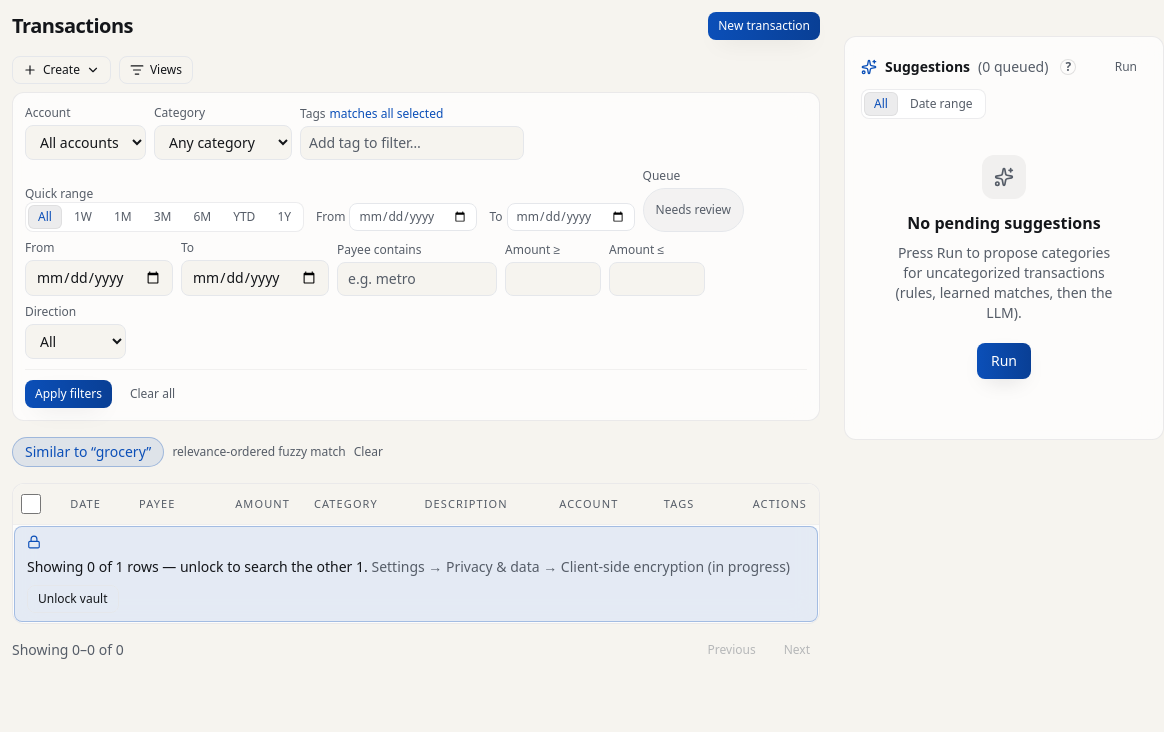
Test: §3.4-5 remedy exercise — the inline unlock actually restores the feature › a WRONG passphrase keeps it locked and says so — the remedy is honest
Expected: the message with test id "vault-locked" is shown, [14,526,818,622]
Click the button with test id "vault-unlock-toggle" at [73, 599], box [27,585,118,613]
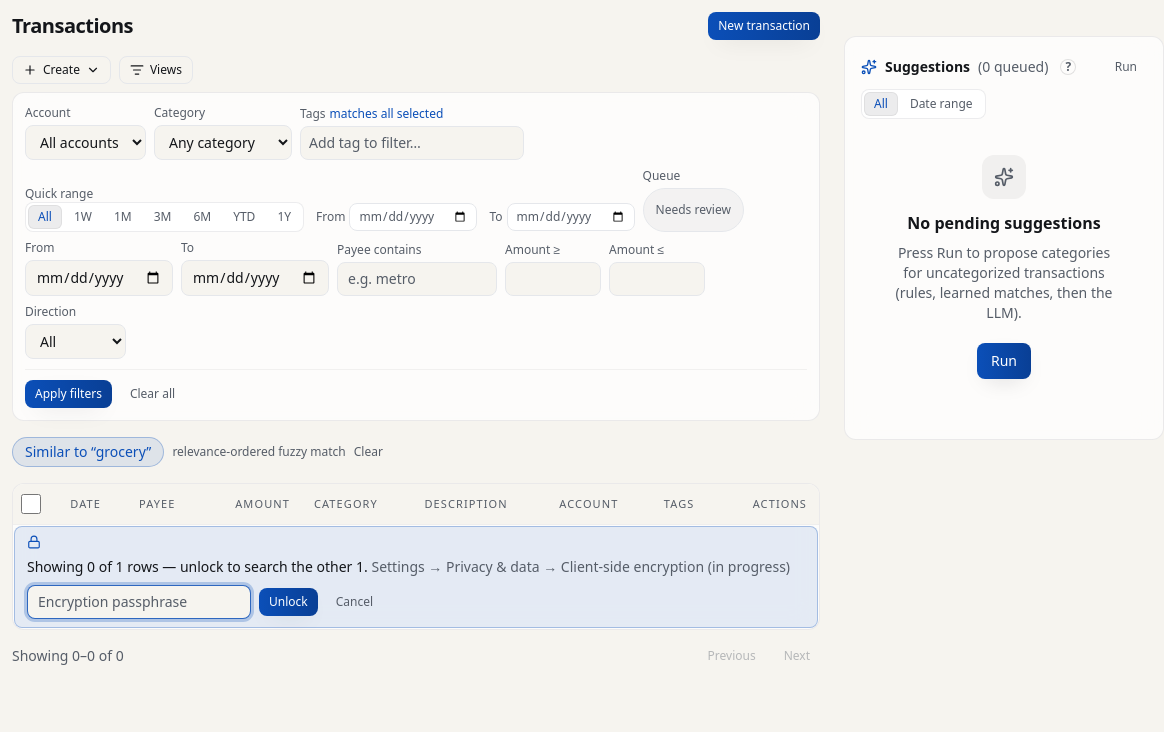
Type "not-the-passphrase" into the password field labelled "Encryption passphrase" at [139, 602], box [27,585,251,619]
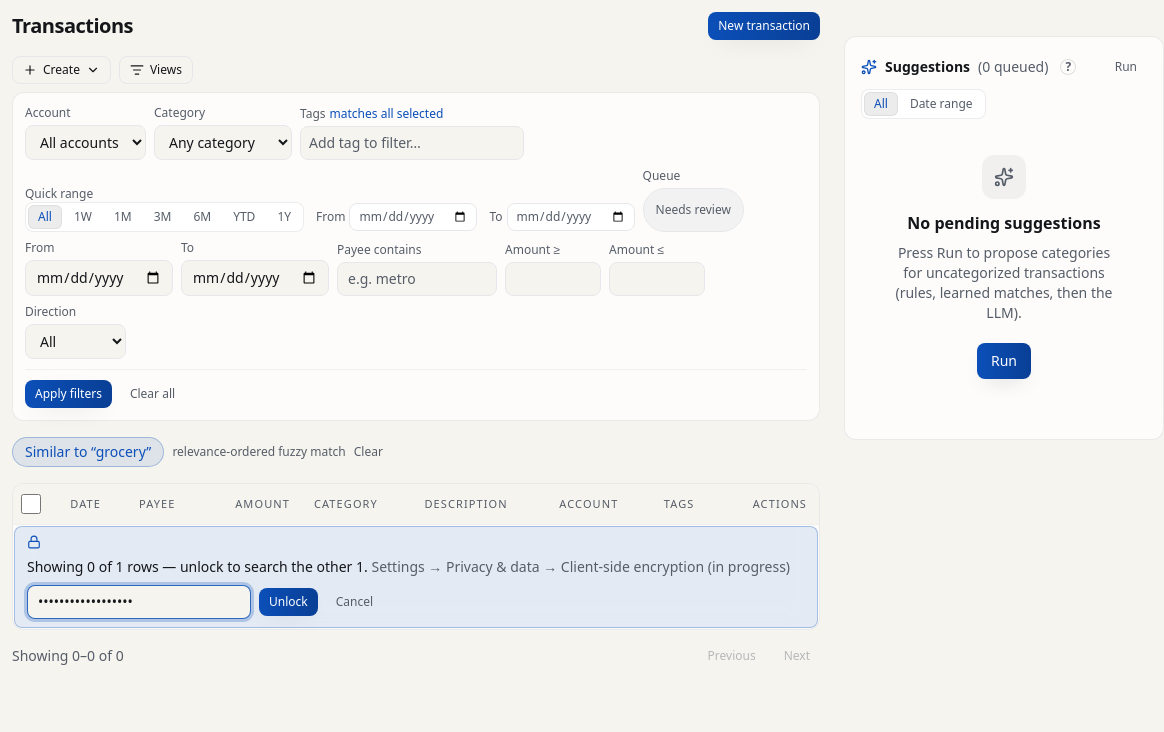
Submit the form named "Encryption passphrase", box [27,585,383,619]
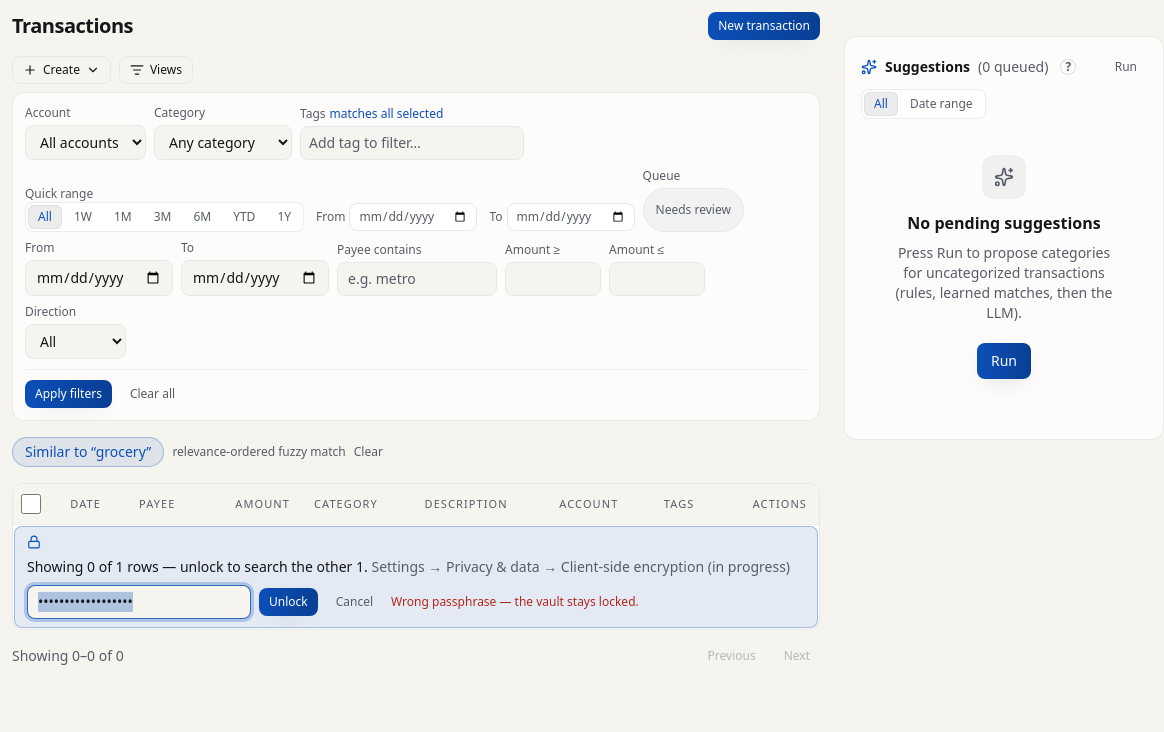
Expected: the message with test id "vault-locked" is shown, [14,526,818,628]
Now the message "Wrong passphrase — the vault stays locked." is shown, box [391,594,639,610]
